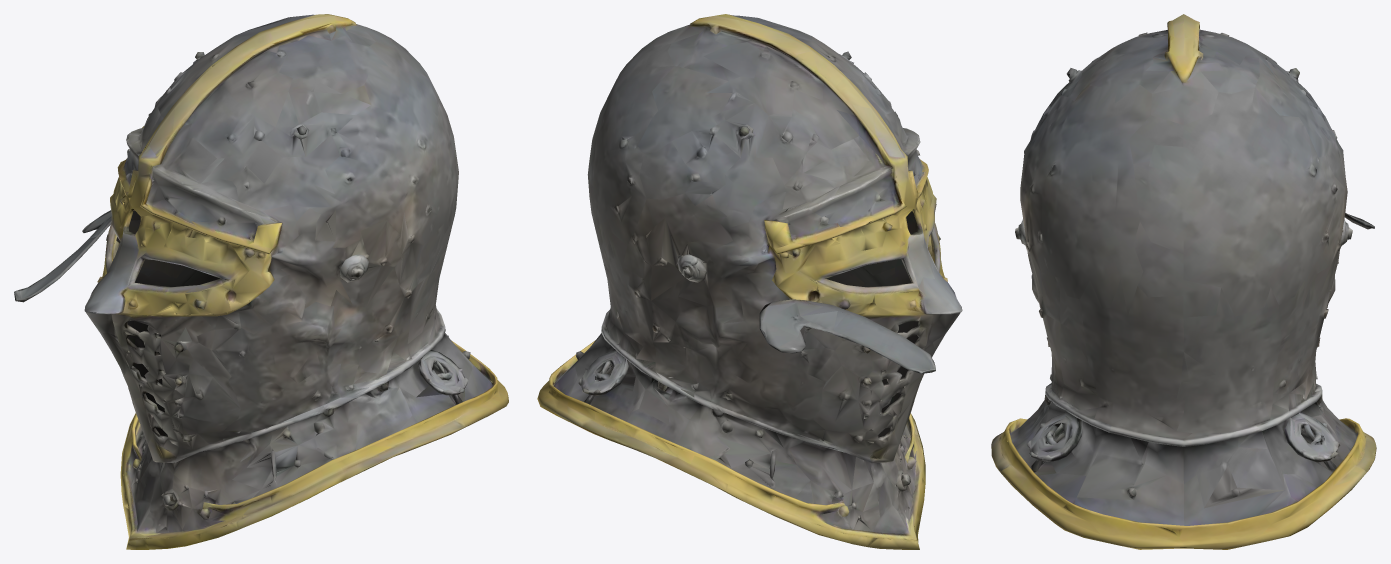
The model's file is great_helm_gilded.glb.
The picture shows the model from 3 angles, left to right: view 1: azimuth 30°, elevation 25°; view 2: azimuth 150°, elevation 25°; view 3: azimuth 270°, elevation 25°; orthographic projection. The views are drawn at different scales.
Parts seen in each view (by area): view 1: tripo_node_82b01b63-c5b1-464d-a39f-d999c41adb9a; view 2: tripo_node_82b01b63-c5b1-464d-a39f-d999c41adb9a; view 3: tripo_node_82b01b63-c5b1-464d-a39f-d999c41adb9a.
Part boxes in pixels (<box>): tripo_node_82b01b63-c5b1-464d-a39f-d999c41adb9a: <box>14,14,508,549</box>; tripo_node_82b01b63-c5b1-464d-a39f-d999c41adb9a: <box>537,14,962,549</box>; tripo_node_82b01b63-c5b1-464d-a39f-d999c41adb9a: <box>991,14,1376,549</box>.
Size of the model in its own units: 0.8759 by 0.9802 by 0.6464.
1 material, 1 textured.
